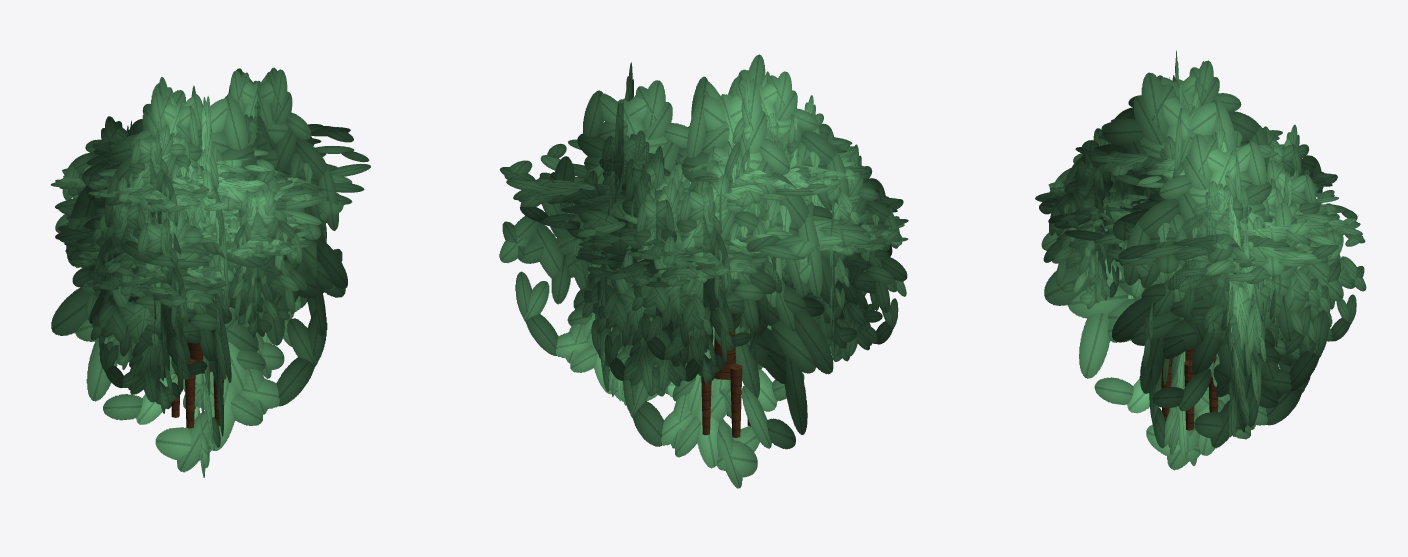
Rendered from flora_willow.glb.
3 views of the same model, side by side, from view 1: azimuth 30°, elevation 25°; view 2: azimuth 150°, elevation 25°; view 3: azimuth 270°, elevation 25° (orthographic). The views are drawn at different scales.
Visible parts, largest first — view 1: CrownFar, Crown, Trunk; view 2: CrownFar, Crown, Trunk; view 3: CrownFar, Crown, Trunk.
Boxes of the visible parts, x1=… form: CrownFar: x1=51, y1=67, x2=370, y2=477; Crown: x1=51, y1=114, x2=312, y2=413; Trunk: x1=171, y1=332, x2=223, y2=428; CrownFar: x1=499, y1=54, x2=875, y2=488; Crown: x1=560, y1=95, x2=908, y2=396; Trunk: x1=701, y1=312, x2=757, y2=437; CrownFar: x1=1035, y1=50, x2=1348, y2=470; Crown: x1=1039, y1=77, x2=1366, y2=367; Trunk: x1=1161, y1=348, x2=1218, y2=430.
Bounding box in the file's own units: 8.08 × 8.04 × 7.27.
2 materials, 2 textured.
